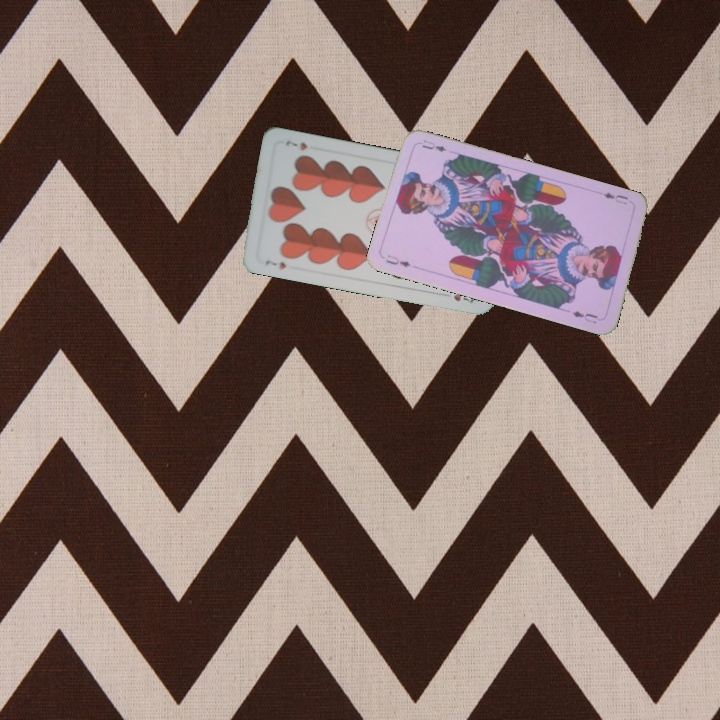EU: (599, 188, 631, 207), (382, 251, 413, 270)
H7: (261, 256, 288, 272)
